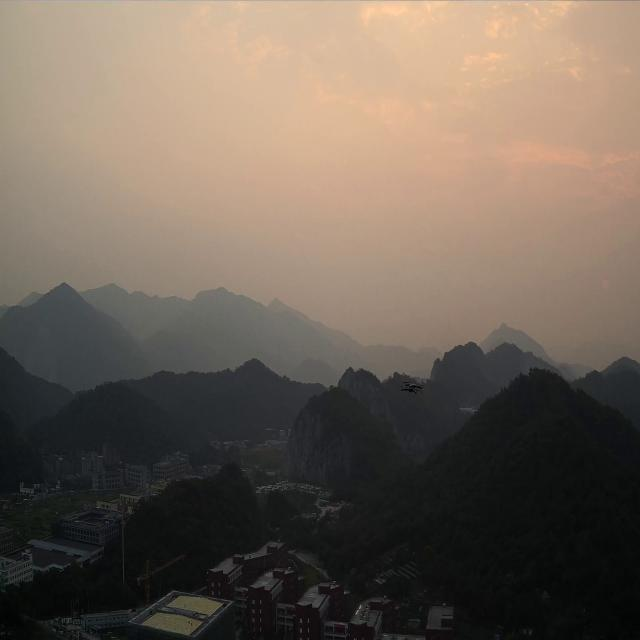UAV: (400, 381, 423, 394)
